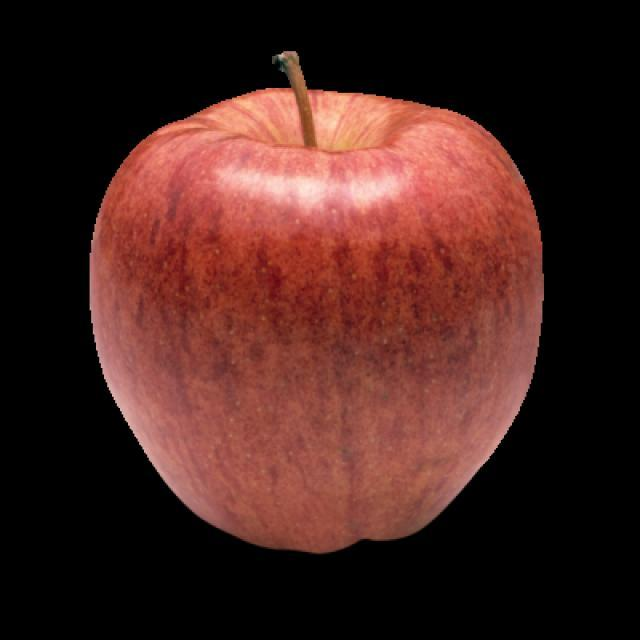Apple: (88, 47, 550, 556)
